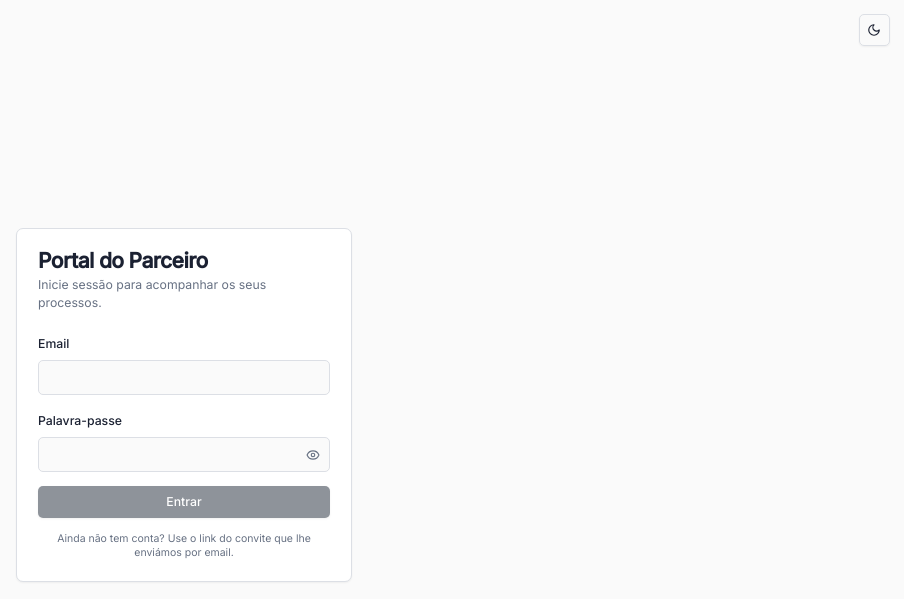
Test: o «olho» da palavra-passe › o login mostra e oculta a palavra-passe
Type "Segredo#2026" into the password field labelled "Palavra-passe" at (184, 455), box x1=38 y1=437 x2=330 y2=472
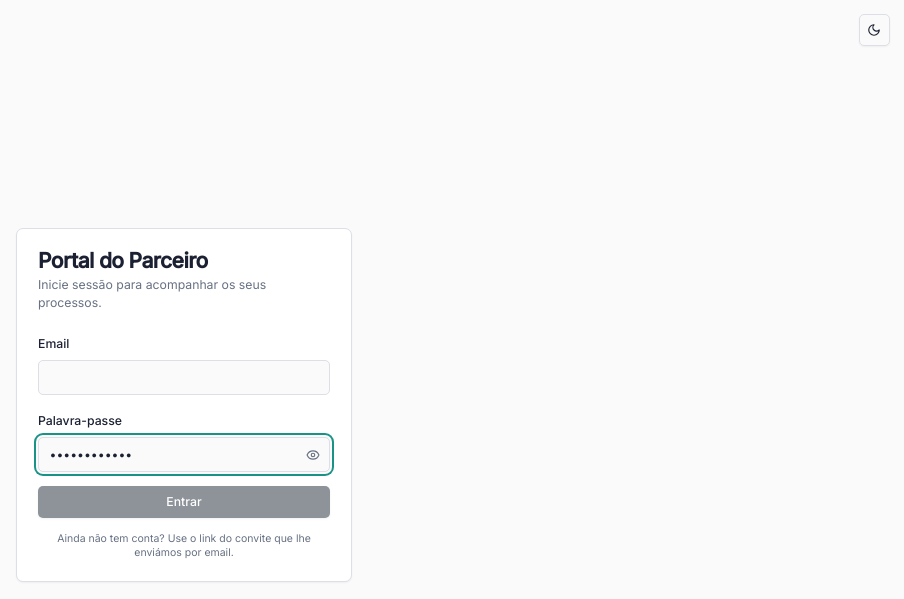
Click the button named "Mostrar palavra-passe" at (312, 455), box x1=295 y1=437 x2=330 y2=472
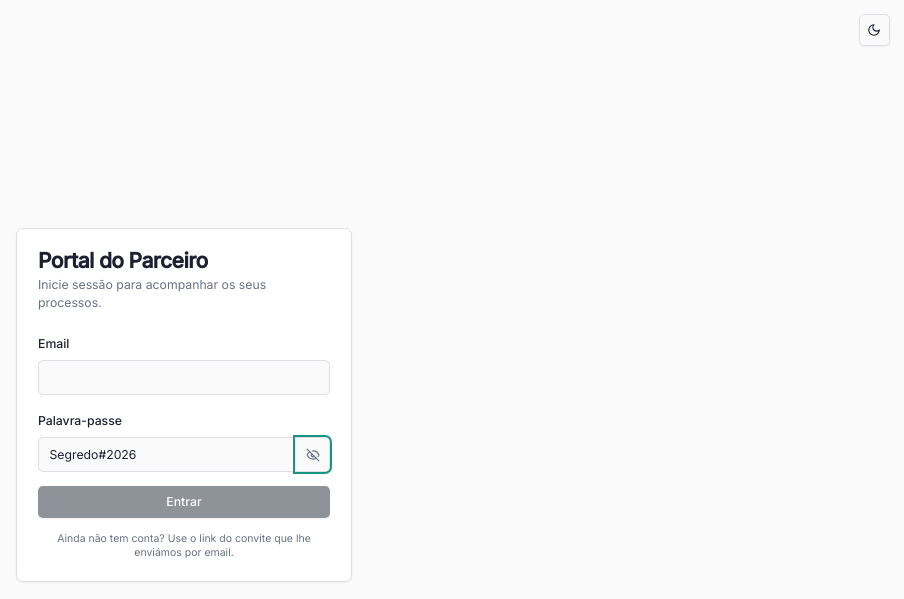
Check: the field labelled "Palavra-passe" shows its text, box x1=38 y1=437 x2=330 y2=472
Click the button named "Ocultar palavra-passe" at (312, 455), box x1=295 y1=437 x2=330 y2=472
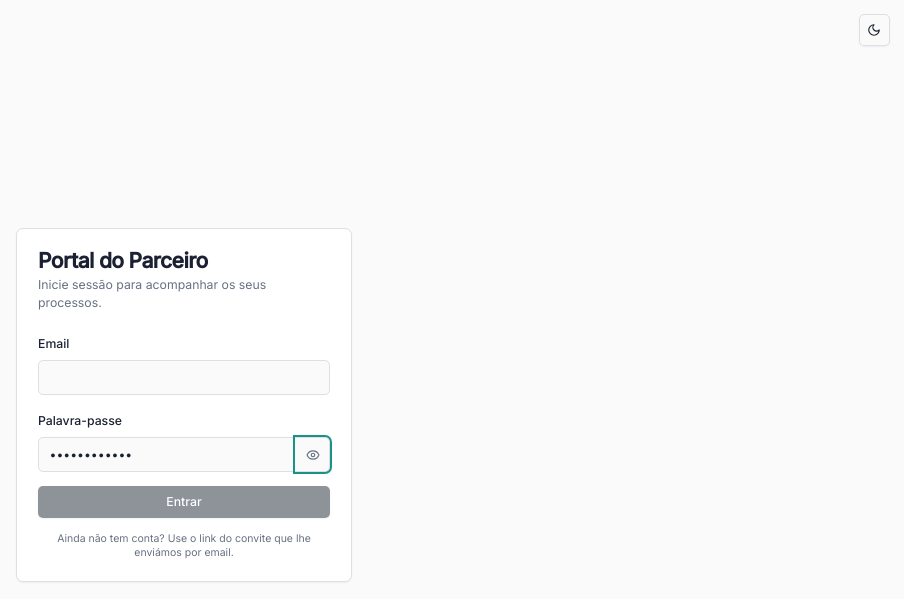
Check: the password field labelled "Palavra-passe" hides its text, box x1=38 y1=437 x2=330 y2=472
